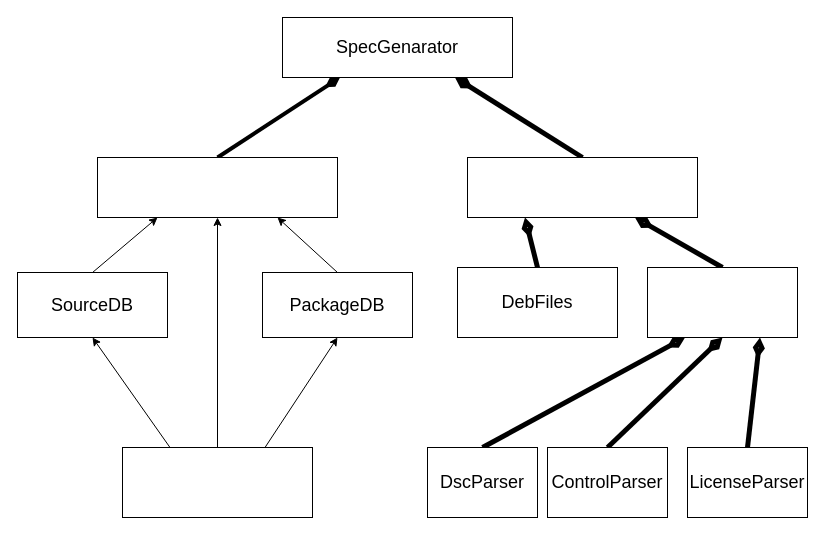
The diagram is 825 pixels wide and 535 high, and some of its shapes have lost their labels. Each missing label, with the centre of its shape:
"BaseDB" belongs at pixel 217 482.
"DebParser" belongs at pixel 722 302.
"InitDB" belongs at pixel 217 187.
"Spec" belongs at pixel 582 187.
